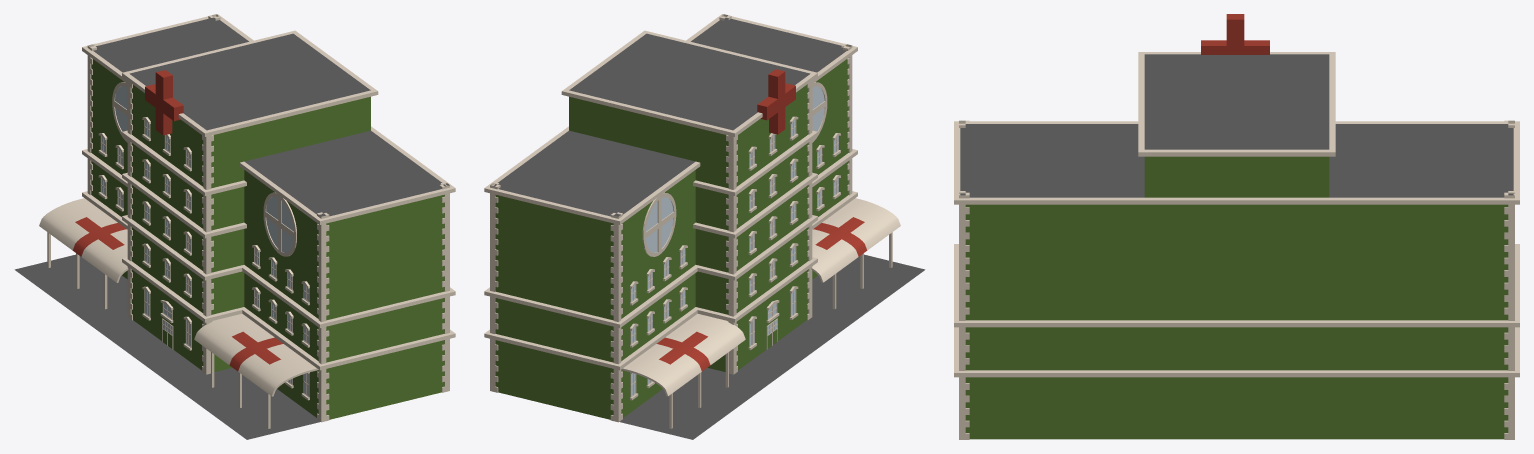
The model's file is 2x1_Hospital.col.glb.
3 renders of one model, left to right at view 1: azimuth 30°, elevation 25°; view 2: azimuth 150°, elevation 25°; view 3: azimuth 270°, elevation 25°, orthographic. The views are drawn at different scales.
Visible parts, largest first — view 1: 2x1_Hospital.col; view 2: 2x1_Hospital.col; view 3: 2x1_Hospital.col.
Boxes of the visible parts, x1,y1,x2,y2 form: 2x1_Hospital.col: (14, 14, 455, 439); 2x1_Hospital.col: (484, 14, 925, 439); 2x1_Hospital.col: (954, 14, 1519, 439).
Bounding box in the file's own units: 20.45 × 25.91 × 40.91.
